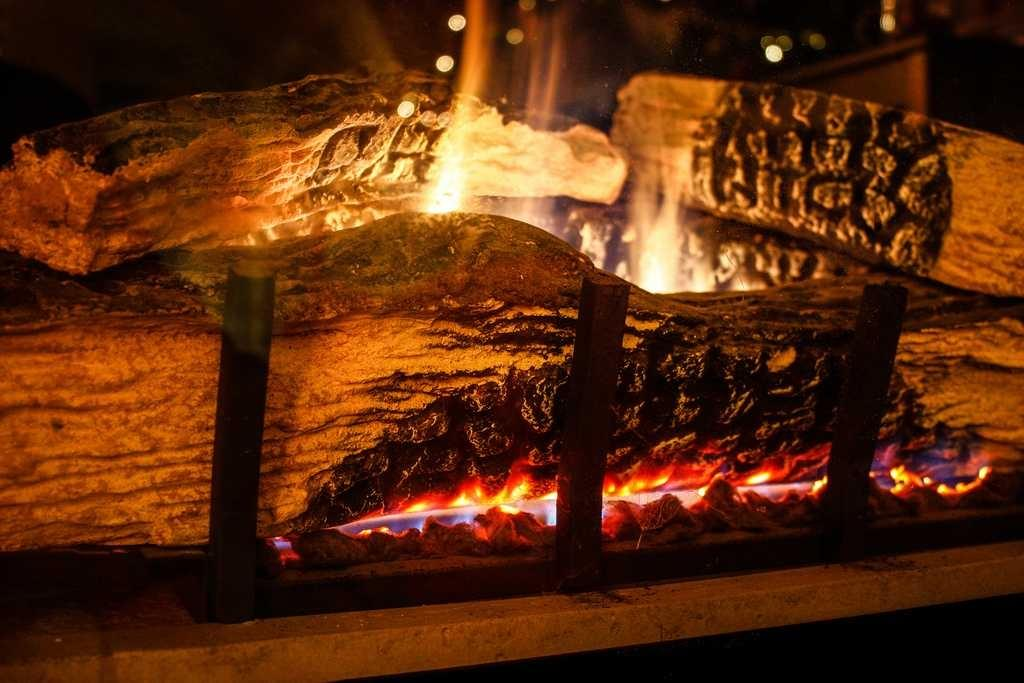fire: (456, 46, 744, 263), (433, 455, 932, 521)
